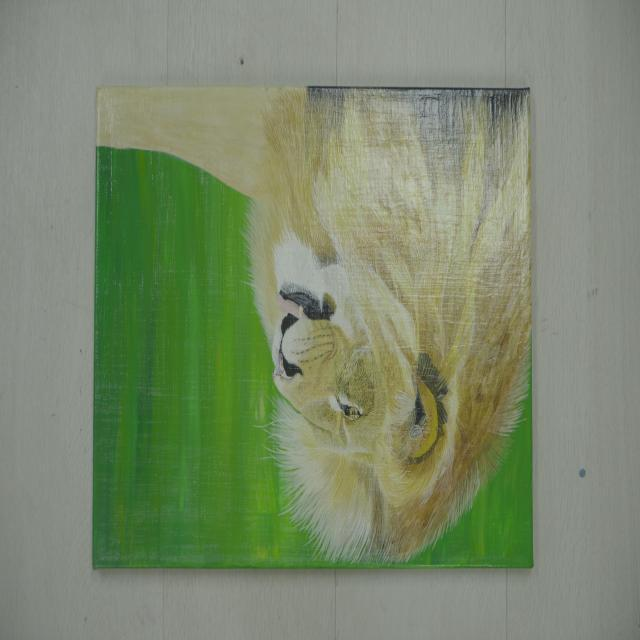painting: (93, 87, 532, 567)
